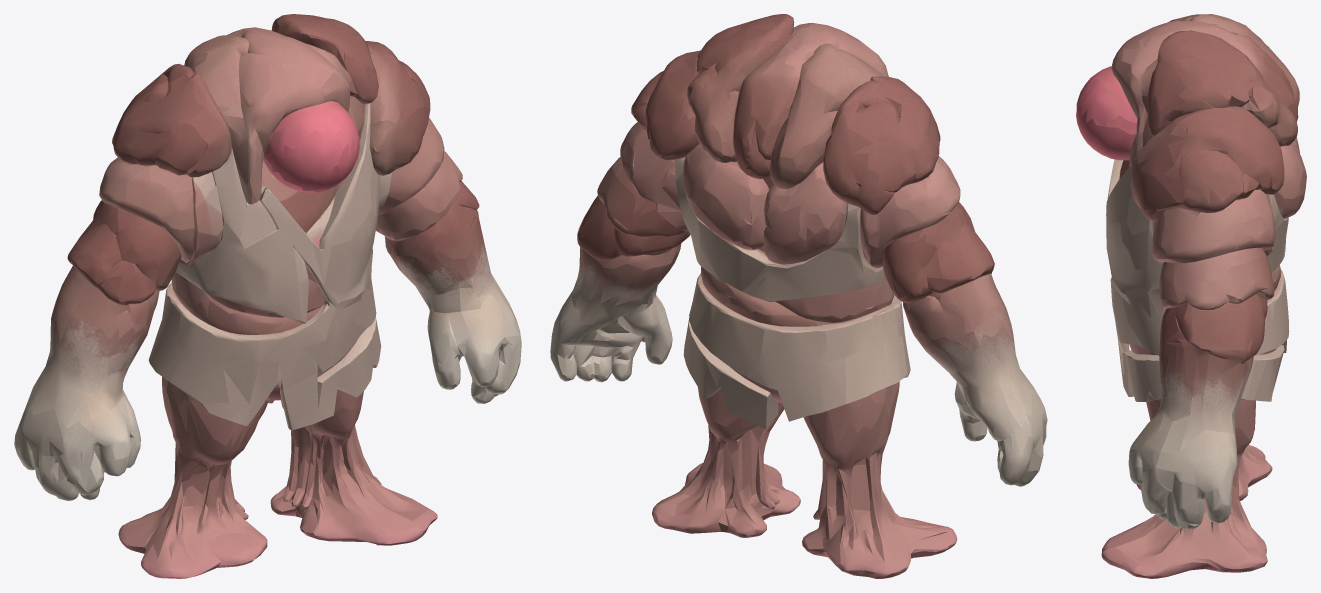
The picture shows the model from 3 angles, left to right: view 1: azimuth 30°, elevation 25°; view 2: azimuth 150°, elevation 25°; view 3: azimuth 270°, elevation 25°; orthographic projection. The views are drawn at different scales.
Size of the model in its own units: 1.9 by 1.9 by 0.8019.
Materials: 1 (1 with a texture image).
